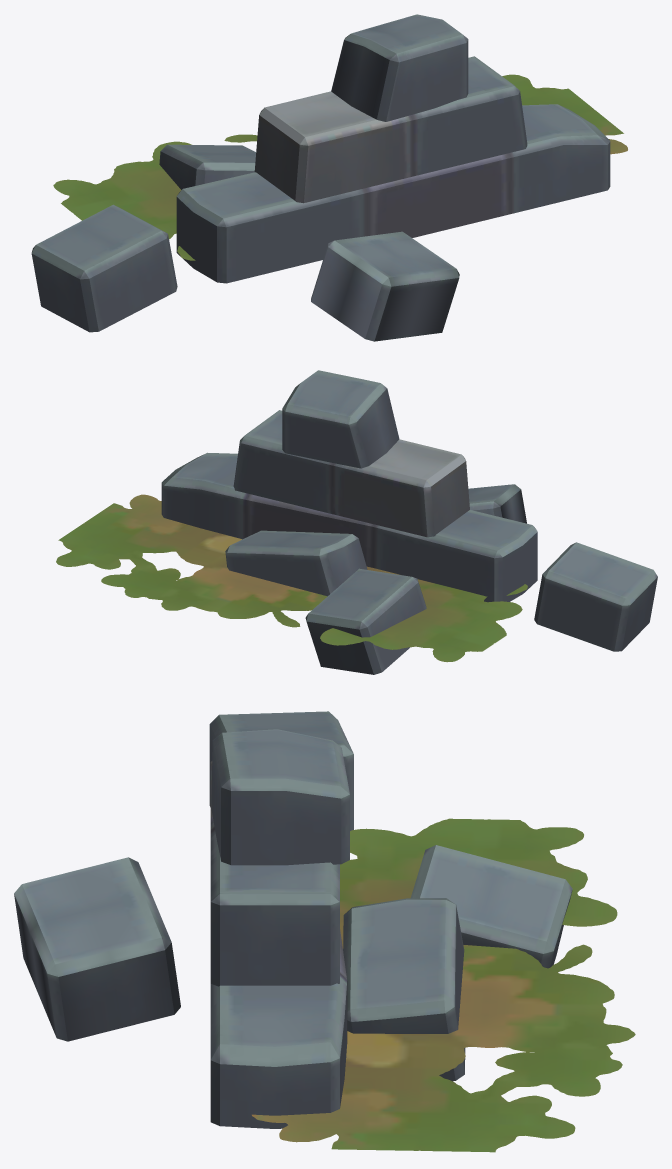
Rendered from ruins_2.fbx.
The picture shows the model from 3 angles, top to bottom: view 1: azimuth 30°, elevation 25°; view 2: azimuth 150°, elevation 25°; view 3: azimuth 270°, elevation 25°; orthographic projection. The views are drawn at different scales.
Parts seen in each view (by area): view 1: building, obstacle_ground_02; view 2: building, obstacle_ground_02; view 3: building, obstacle_ground_02.
Boxes of the visible parts, bbox=[...] form: building: bbox=[31, 14, 610, 341]; obstacle_ground_02: bbox=[53, 74, 627, 260]; building: bbox=[161, 370, 657, 674]; obstacle_ground_02: bbox=[56, 494, 527, 662]; building: bbox=[14, 711, 572, 1128]; obstacle_ground_02: bbox=[252, 818, 635, 1152].
Size of the model in its own units: 3.01 by 1.11 by 2.04.
